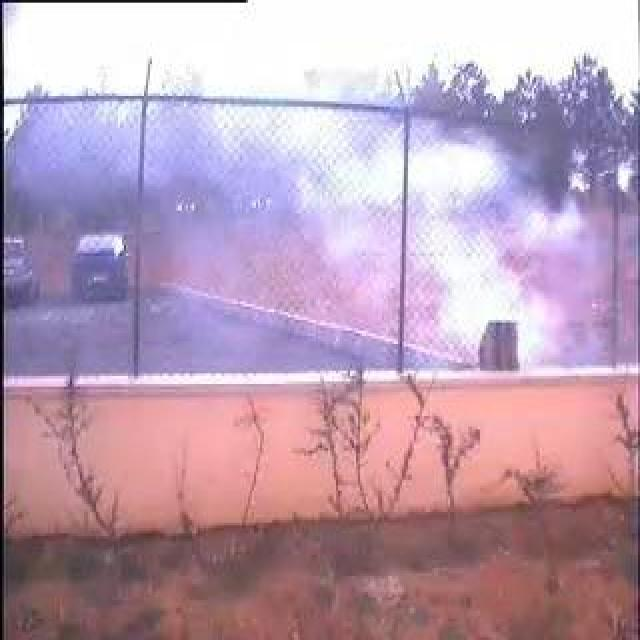Smoke: (297, 109, 575, 363)
